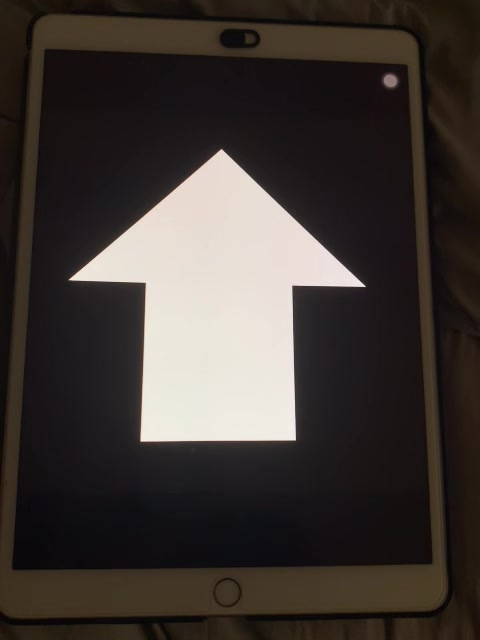up: (68, 146, 369, 446)
